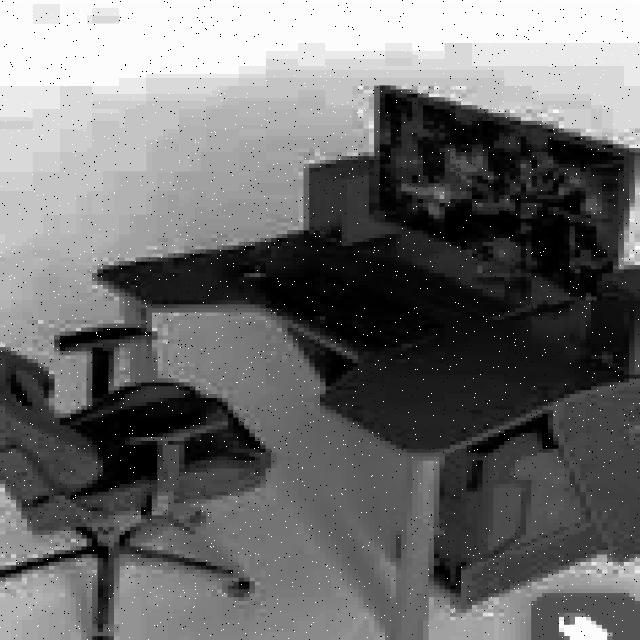book: (0, 226, 277, 640)
table: (98, 218, 640, 640)
